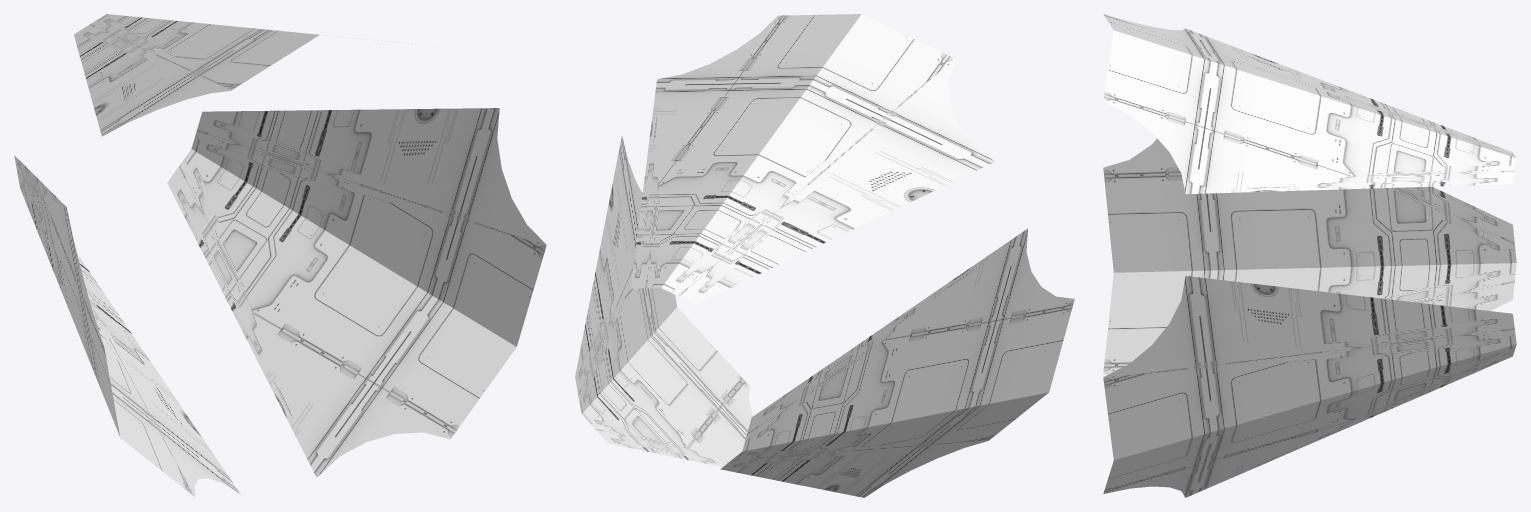
File: Arrow3D.fbx
The picture shows the model from 3 angles, left to right: view 1: azimuth 30°, elevation 25°; view 2: azimuth 150°, elevation 25°; view 3: azimuth 270°, elevation 25°; orthographic projection. The views are drawn at different scales.
Parts seen in each view (by area): view 1: Plane.All applied; view 2: Plane.All applied; view 3: Plane.All applied.
Part boxes in pixels (bbox=[...]): Plane.All applied: bbox=[14, 14, 546, 497]; Plane.All applied: bbox=[575, 14, 1074, 497]; Plane.All applied: bbox=[1103, 14, 1516, 497].
Bounding box in the file's own units: 2.26 × 2.33 × 1.94.
